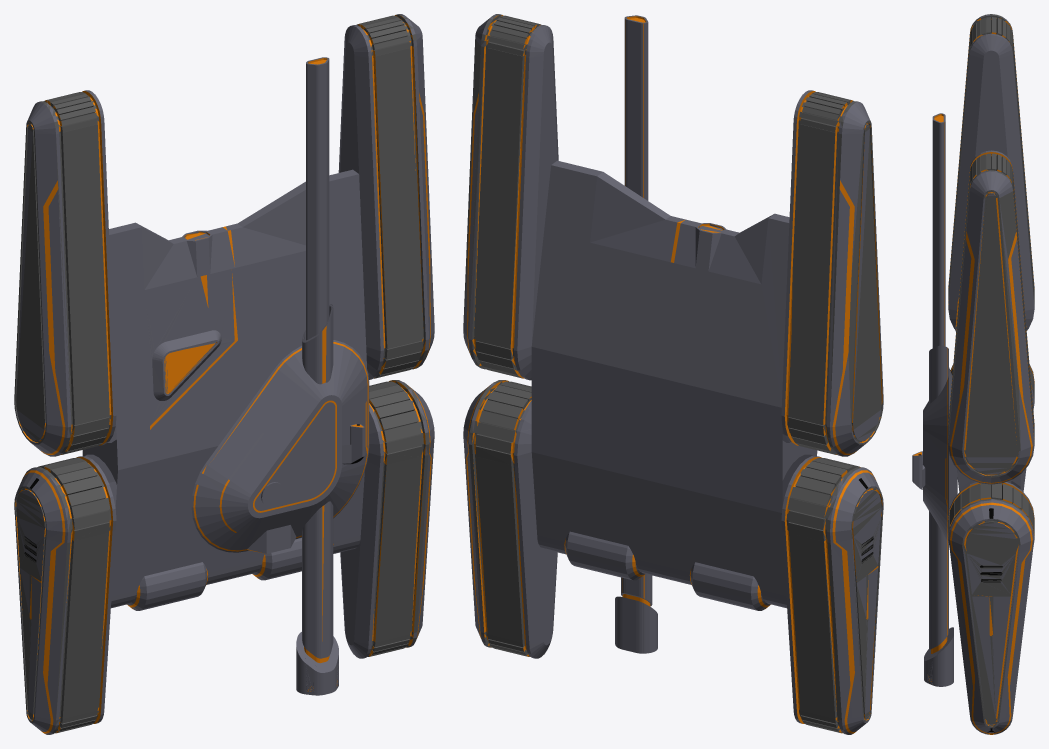
Rendered from tron_tank.dae.
The picture shows the model from 3 angles, left to right: view 1: azimuth 30°, elevation 25°; view 2: azimuth 150°, elevation 25°; view 3: azimuth 270°, elevation 25°; orthographic projection. The views are drawn at different scales.
Visible parts, largest first — view 1: tron-tank; view 2: tron-tank; view 3: tron-tank.
Boxes of the visible parts, left/top/right/bottom form: tron-tank: left=14, top=14, right=434, bottom=734; tron-tank: left=463, top=14, right=883, bottom=734; tron-tank: left=912, top=14, right=1034, bottom=734.
Bounding box in the file's own units: 4.64 × 1.42 × 7.24.
